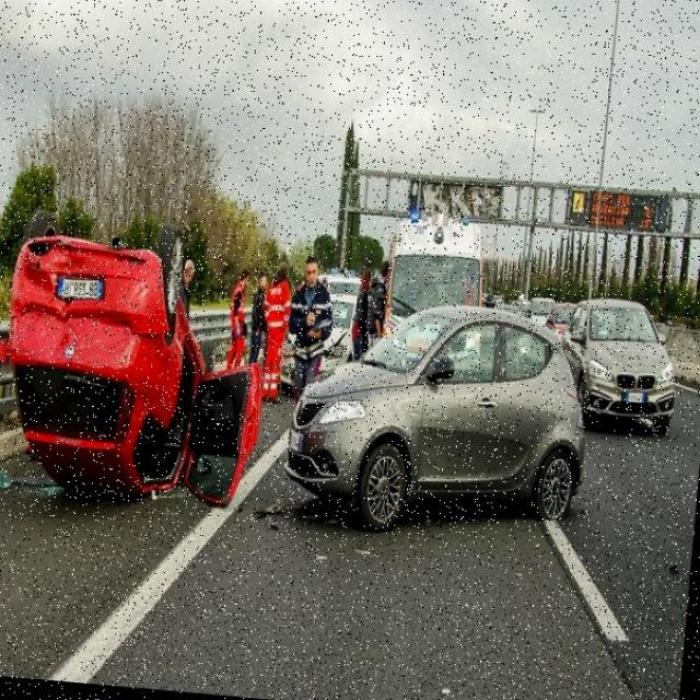Accident: (0, 189, 287, 574)
